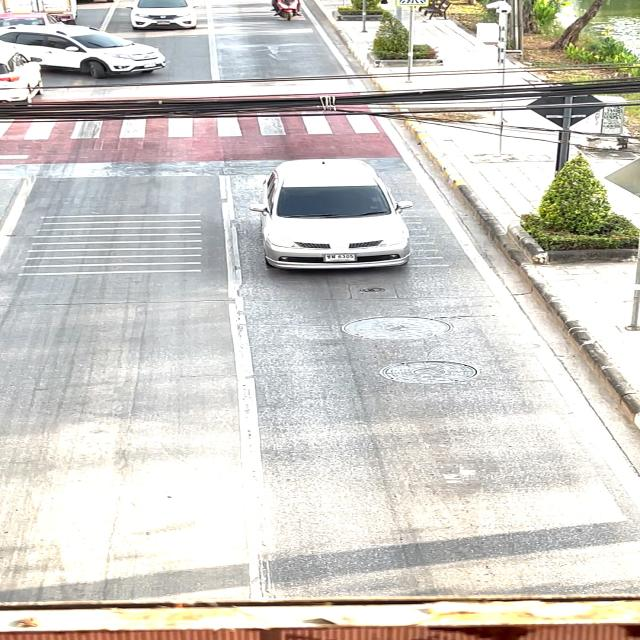car: (244, 145, 431, 282), (7, 22, 185, 89), (118, 0, 214, 37)
